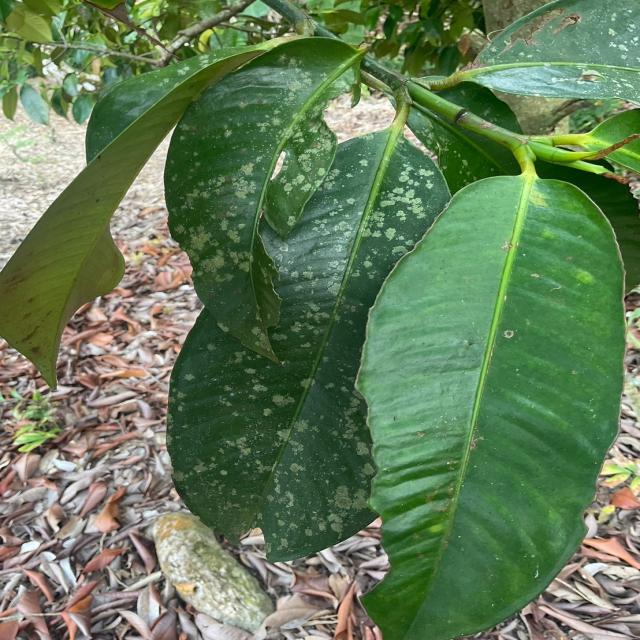Leaf Spot: (153, 334, 383, 545), (173, 85, 341, 326), (326, 129, 499, 329)
